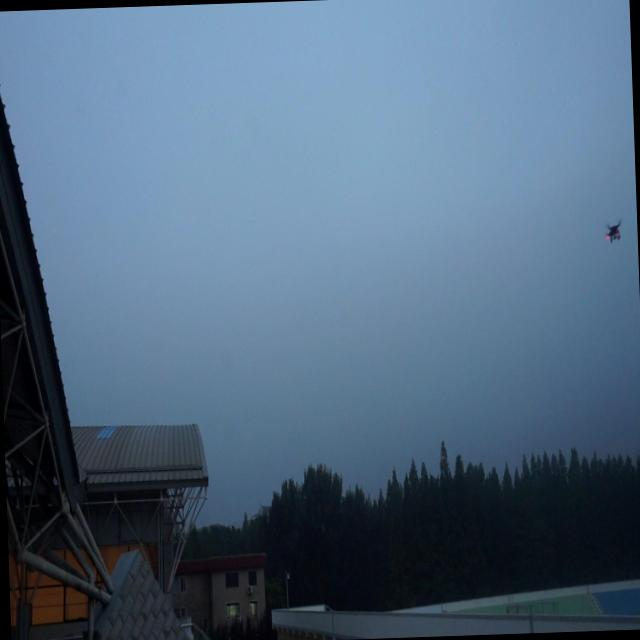drone: (602, 216, 623, 245)
